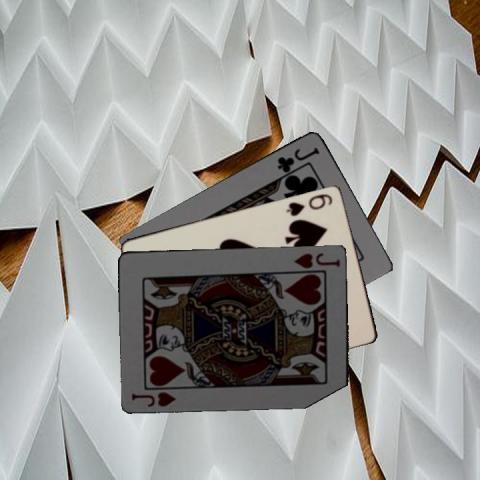6s: (283, 191, 334, 217)
Jc: (274, 144, 321, 173)
Jh: (291, 250, 342, 269), (129, 389, 177, 408)
